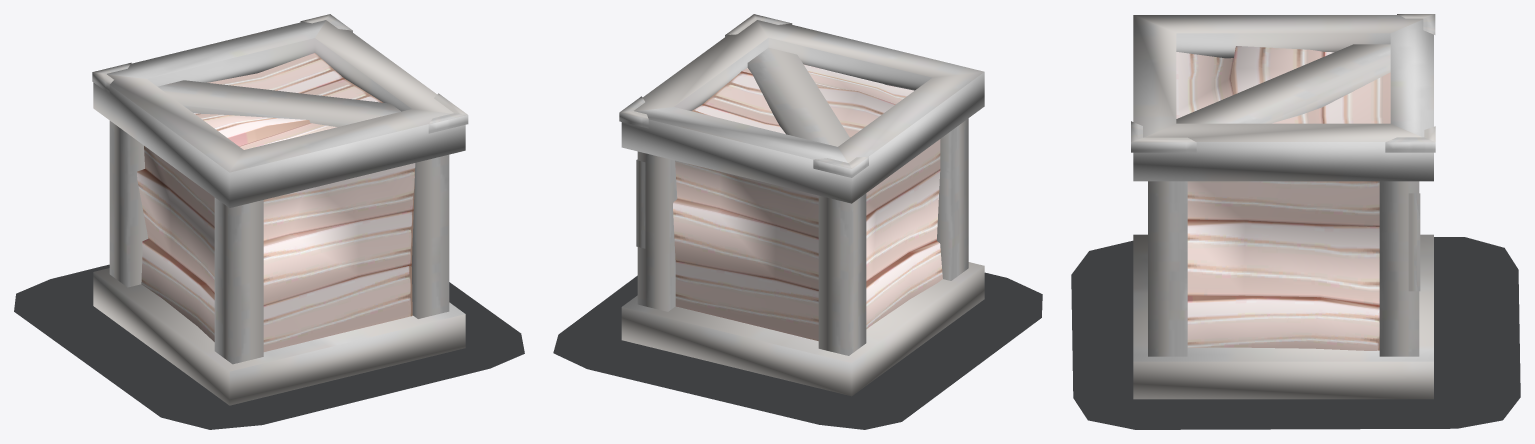
Rendered from ShipmentCrate.fbx.
3 renders of one model, left to right at view 1: azimuth 30°, elevation 25°; view 2: azimuth 150°, elevation 25°; view 3: azimuth 270°, elevation 25°, orthographic. The views are drawn at different scales.
Visible parts, largest first — view 1: Crate, ShadowSquareTownDark; view 2: Crate, ShadowSquareTownDark; view 3: Crate, ShadowSquareTownDark.
Part boxes in pixels (x1,y1,x2,y2): Crate: (92, 14, 468, 405); ShadowSquareTownDark: (14, 264, 524, 429); Crate: (619, 14, 984, 396); ShadowSquareTownDark: (553, 272, 1042, 429); Crate: (1131, 14, 1435, 399); ShadowSquareTownDark: (1071, 237, 1520, 429).
Bounding box in the file's own units: 1.63 × 1.02 × 1.61.
